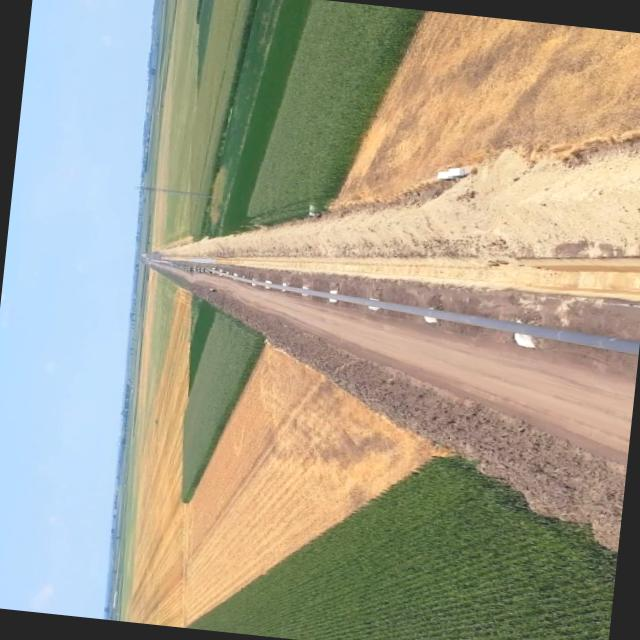gas: (203, 263, 633, 354)
